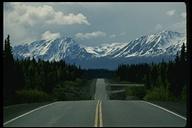cloud: (7, 6, 89, 30)
mountain: (14, 28, 184, 58)
road: (5, 96, 190, 124)
sky: (12, 3, 186, 30)
snow: (90, 47, 138, 61)
tree: (4, 54, 72, 83), (124, 56, 185, 78)
